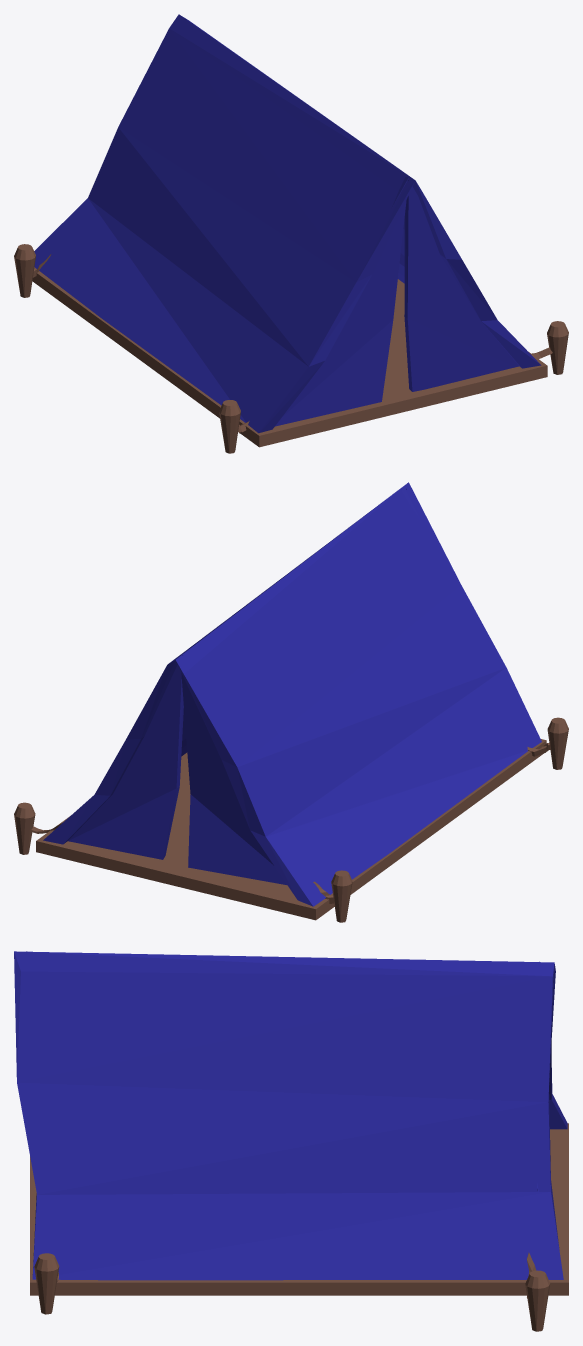
File: palatka3.fbx
The picture shows the model from 3 angles, top to bottom: view 1: azimuth 30°, elevation 25°; view 2: azimuth 150°, elevation 25°; view 3: azimuth 270°, elevation 25°; orthographic projection. The views are drawn at different scales.
Visible parts, largest first — view 1: model; view 2: model; view 3: model.
Boxes of the visible parts, x1,y1,x2,y2 form: model: [14, 14, 568, 453]; model: [14, 482, 568, 922]; model: [14, 951, 568, 1331].
Bounding box in the file's own units: 129 × 88.07 × 154.
